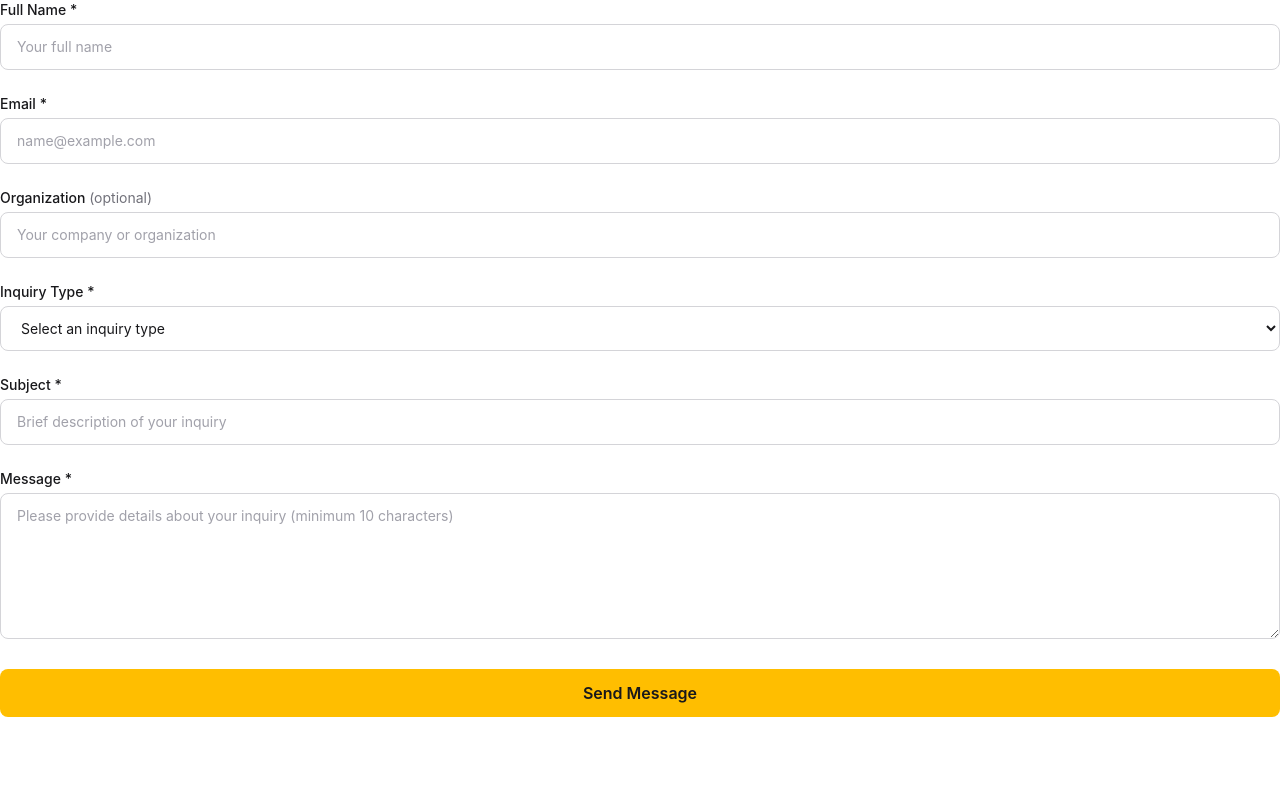
Scenario: validation › rejects a too-short message
Replace the text in the text box labelled "Message *" with "short" at point(640, 566), box [0,493,1279,639]
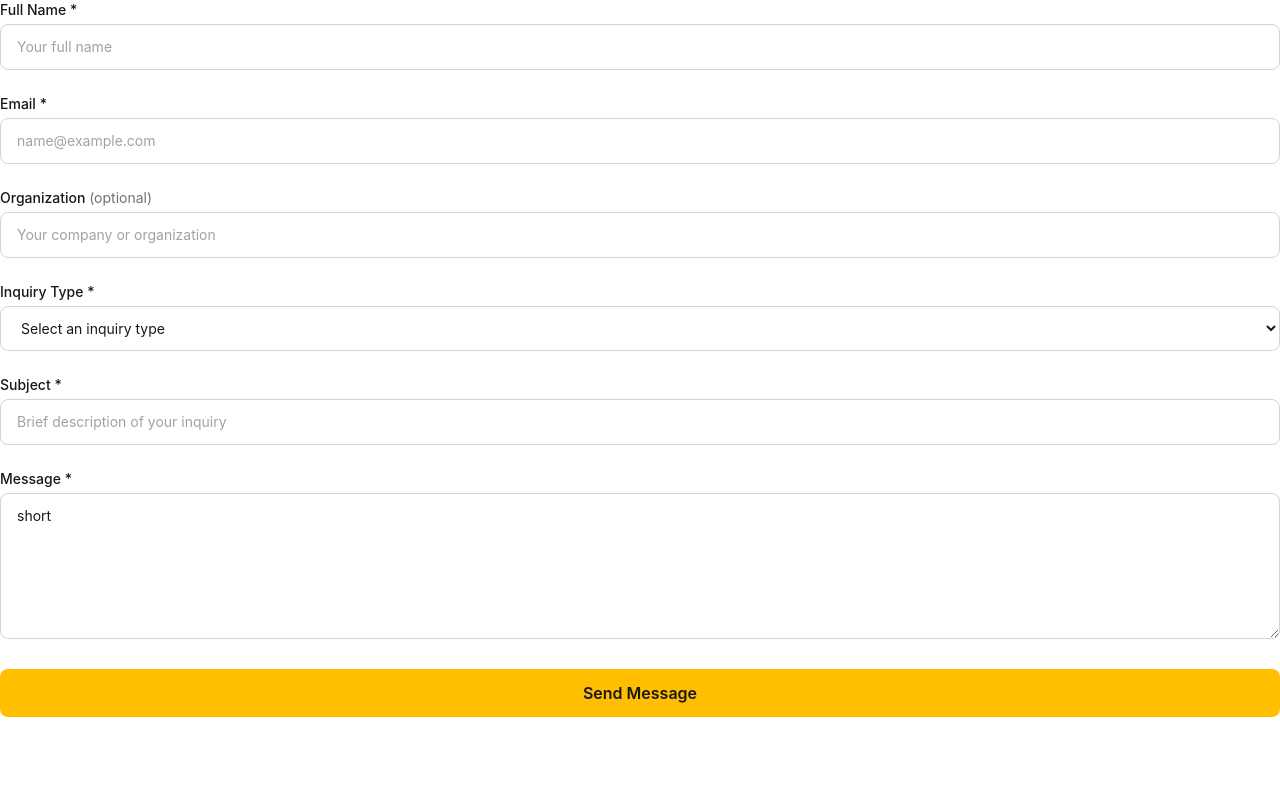
Click the button "Send Message".
click(640, 693)  # box [0,669,1279,717]
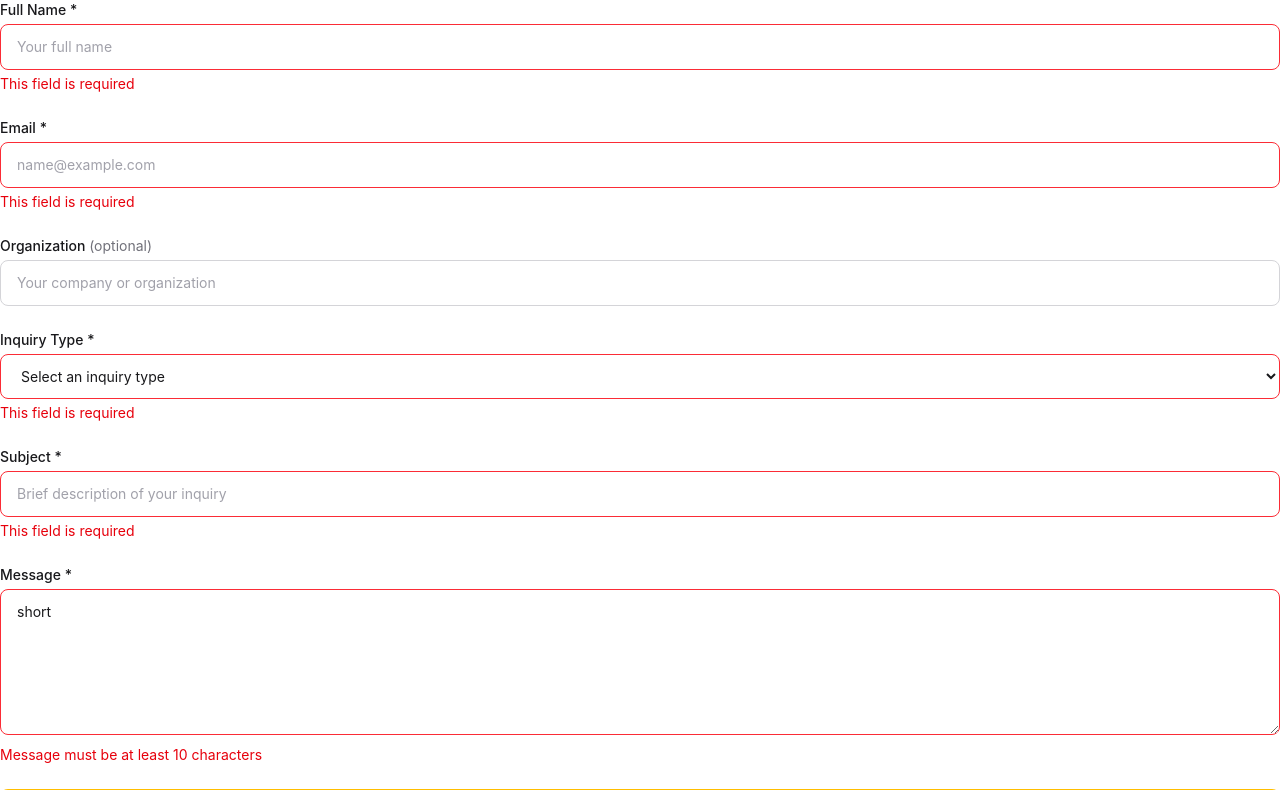
Expected: the text "Message must be at least 10 characters" is shown, [0,746,262,763]
